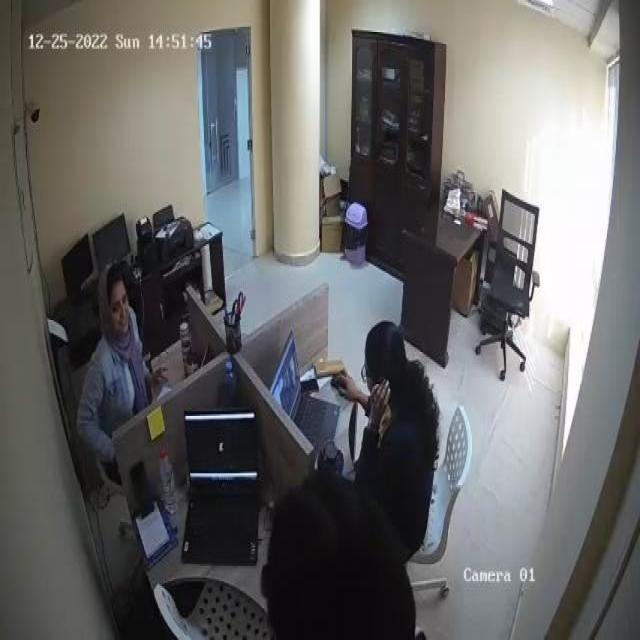bare_hand: (361, 367, 393, 445), (333, 367, 370, 416), (144, 355, 173, 401)
